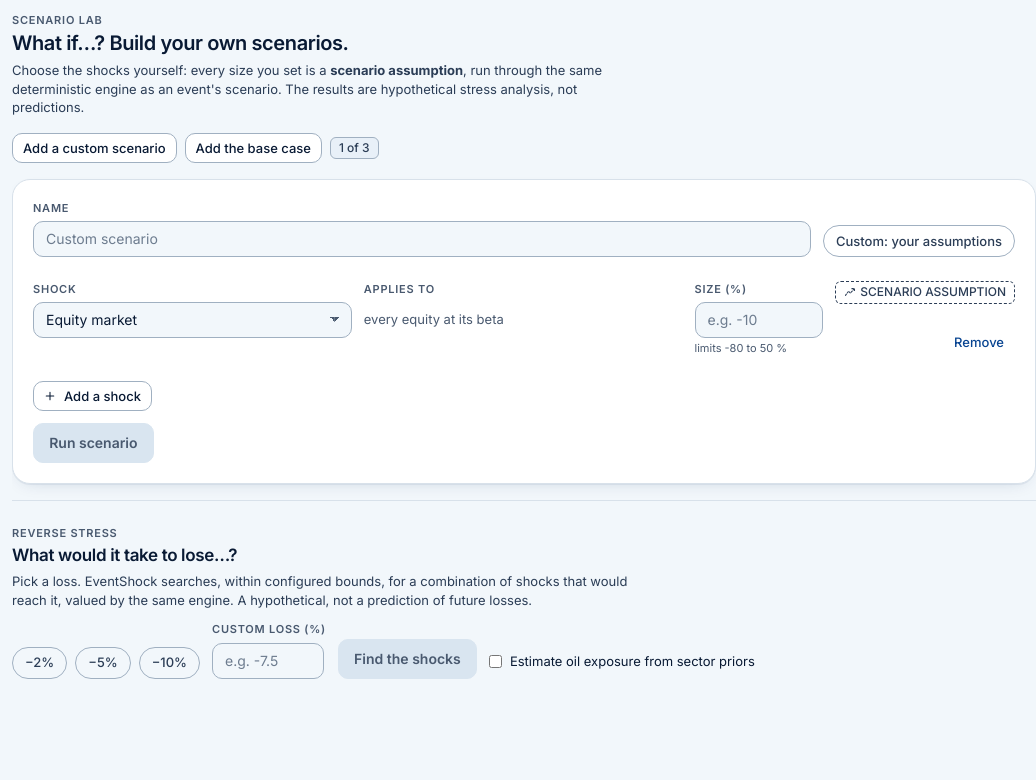
Scenario: ScenarioLab › offers only the vocabulary for a target and warns when a currency shock cannot reach anything
Select "Currency" in the dropdown labelled "Shock" at (192, 320), box [33, 302, 352, 338]
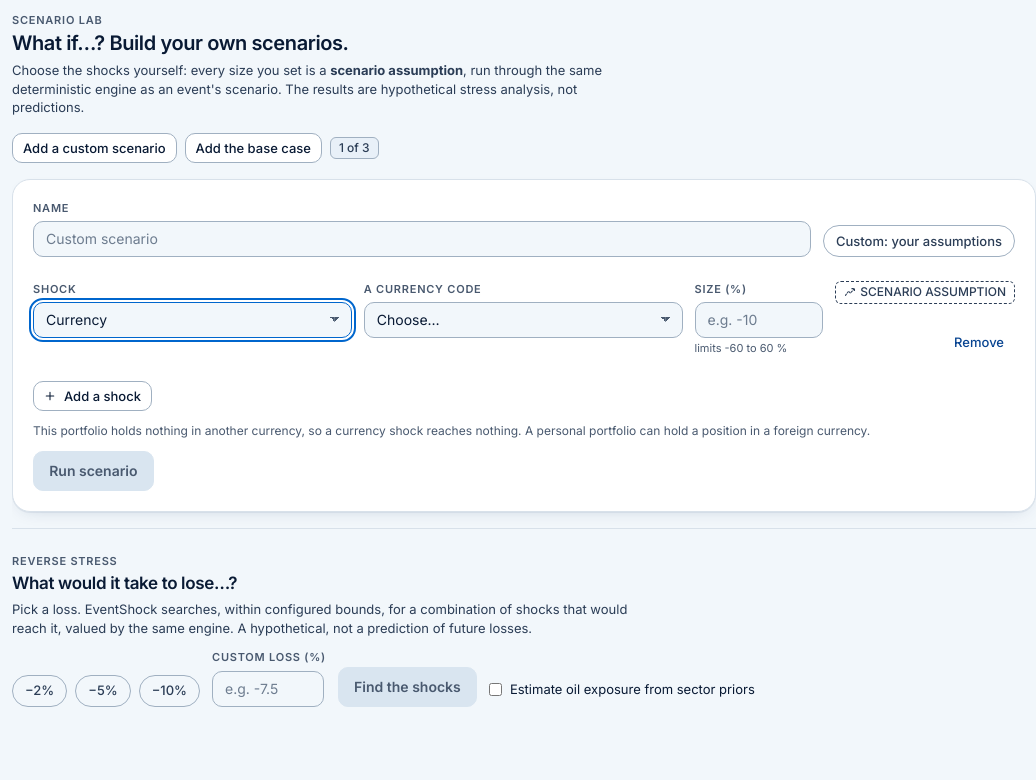
Check: the text "holds nothing in another currency" is shown, box [33, 423, 870, 438]
